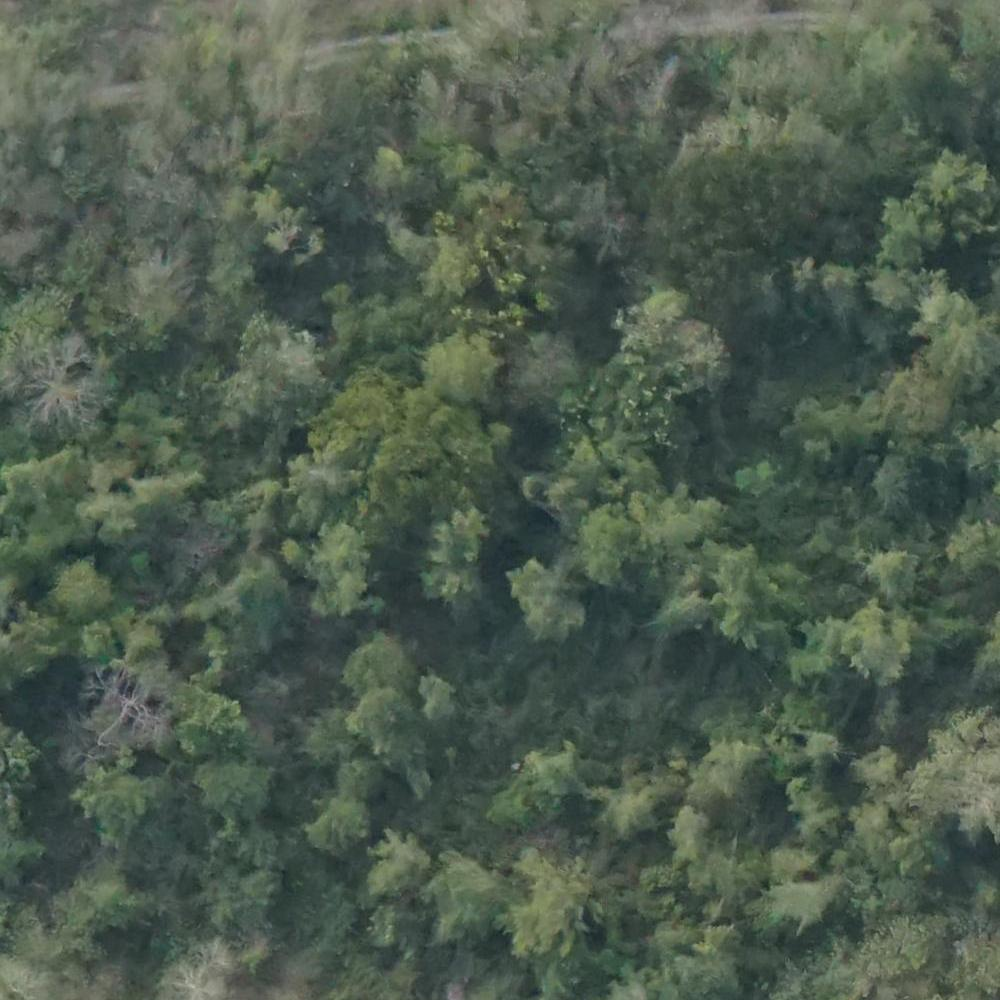tree: (224, 318, 328, 408), (26, 344, 112, 423), (843, 599, 918, 685), (70, 763, 151, 841), (416, 332, 502, 398), (334, 632, 415, 701), (870, 197, 946, 270), (930, 156, 1000, 233), (375, 435, 439, 517), (518, 560, 591, 631), (195, 756, 274, 819), (926, 291, 991, 364), (882, 369, 952, 427), (353, 689, 421, 748), (373, 833, 433, 899), (430, 510, 495, 564), (311, 795, 371, 852), (47, 566, 113, 617), (860, 543, 924, 595), (949, 511, 1000, 576), (869, 454, 928, 509), (530, 748, 590, 801), (709, 588, 768, 641), (371, 905, 430, 957), (272, 206, 320, 268), (303, 521, 362, 570), (582, 508, 635, 560), (708, 741, 760, 790), (126, 620, 178, 669), (606, 788, 654, 834), (318, 577, 367, 622), (733, 454, 779, 500), (301, 715, 352, 755), (846, 804, 892, 848), (672, 809, 715, 854), (857, 749, 903, 790), (339, 762, 387, 801), (716, 545, 762, 583), (424, 676, 460, 724), (78, 623, 116, 663), (642, 862, 676, 898)
